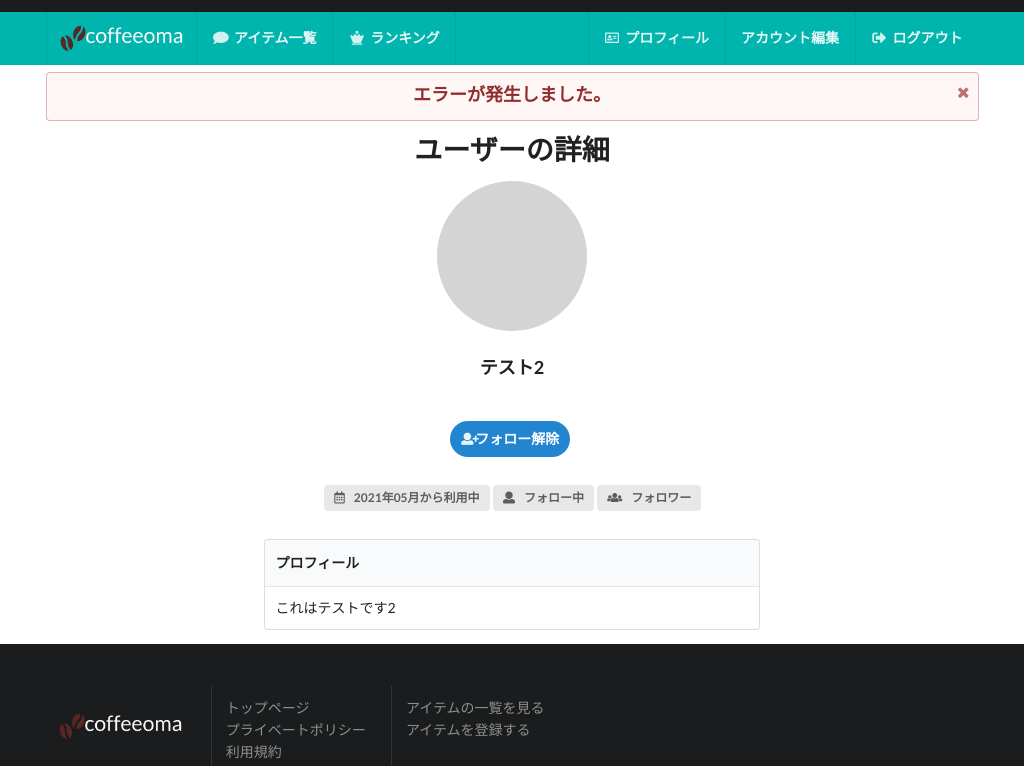
Test: Destory › successfully
Click the button "フォロー解除".
click(510, 439)  # box 450,421 -> 570,457
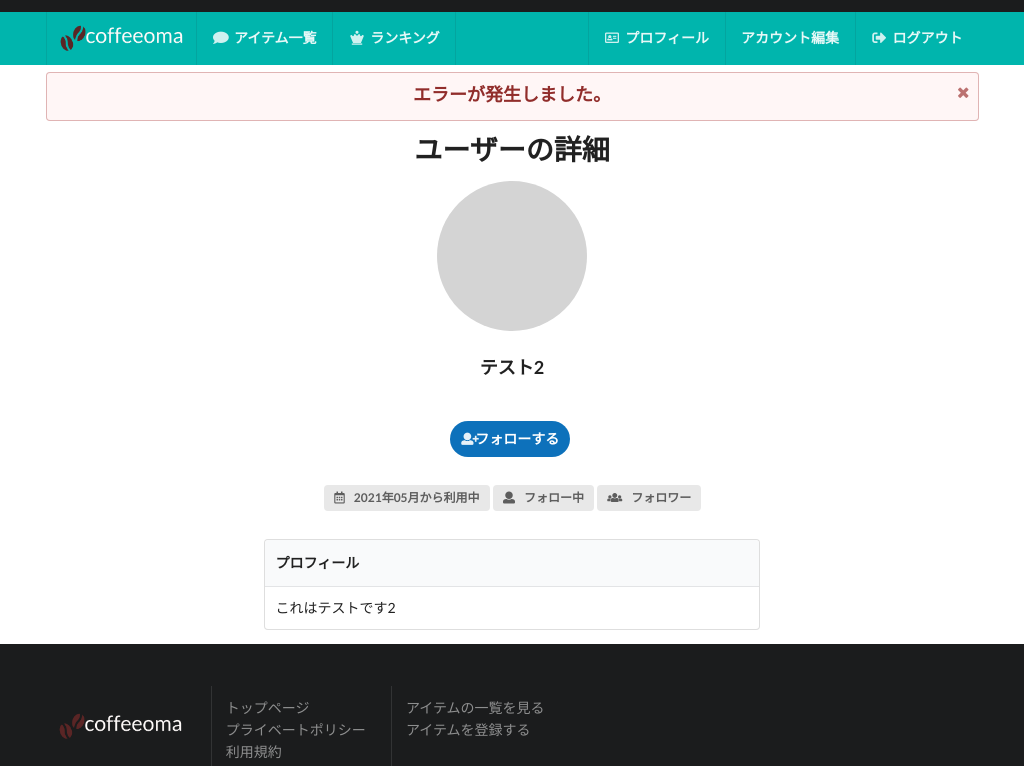
Expected: the button "フォローする" is shown, 450,421 -> 570,457
